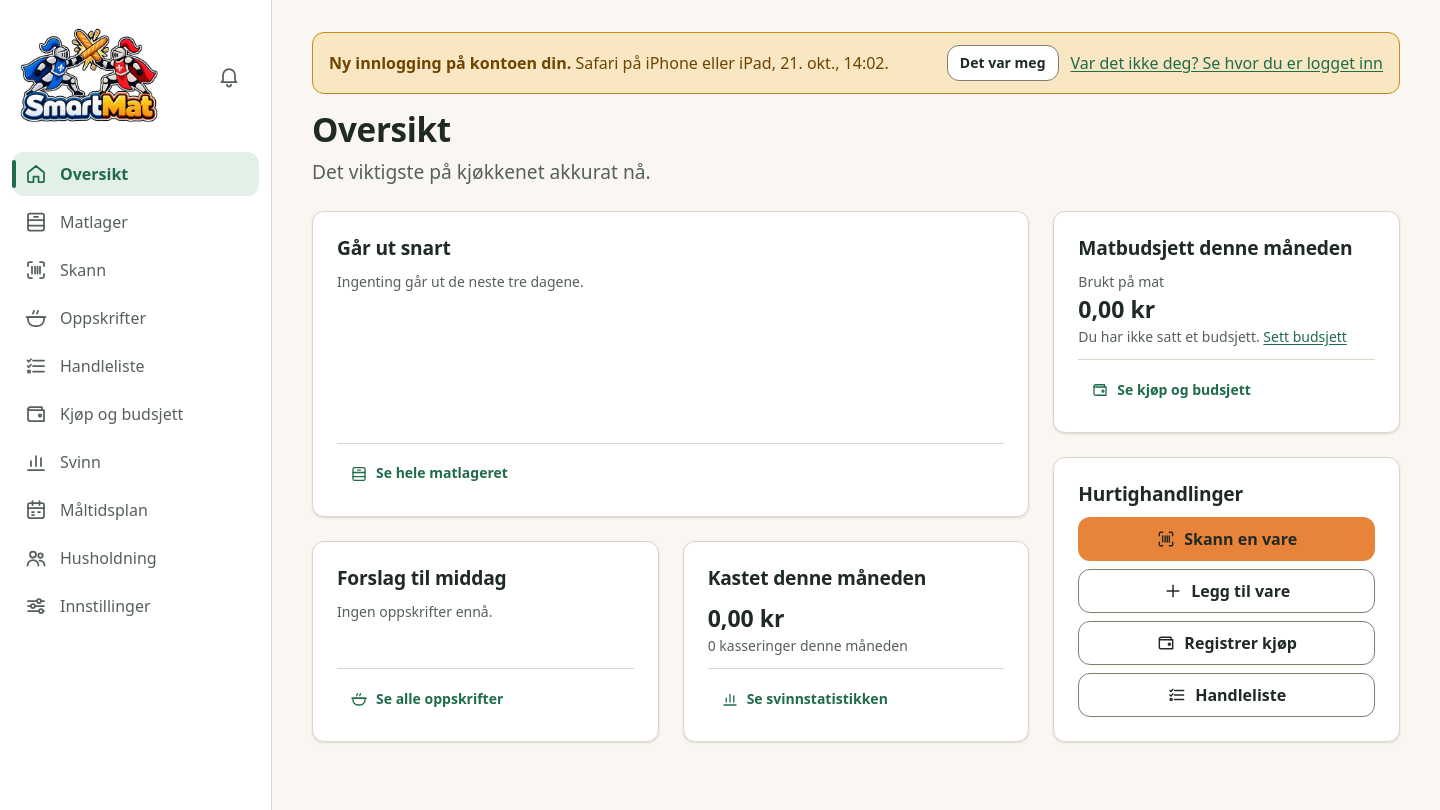
it: FR-AUTH-009 notice about a new login › "Det var meg" posts the dismissal for that session, and the notice goes away
Click the button "Det var meg": (1003, 63) [947, 45, 1058, 81]
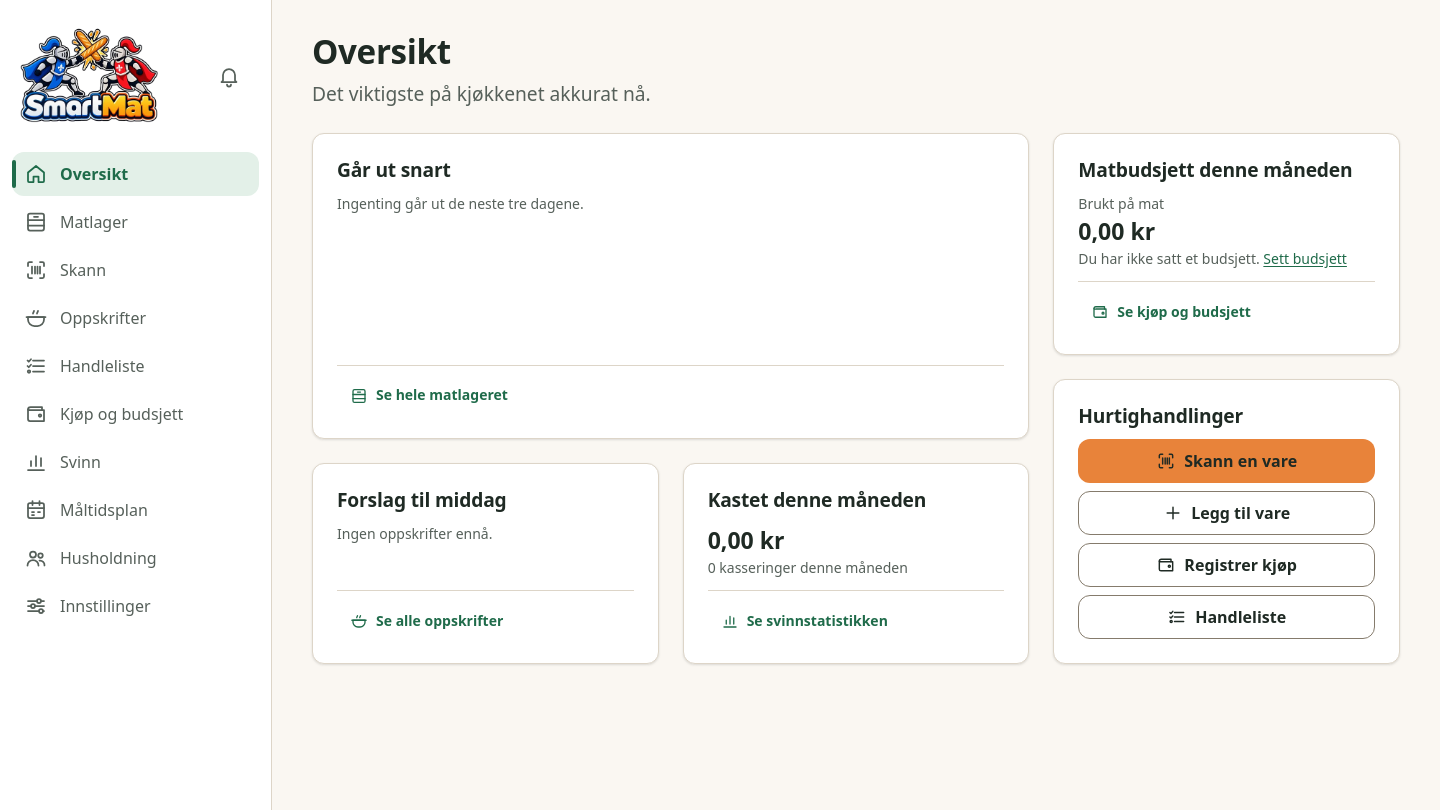
Expected: the text "Ny innlogging på kontoen din." is gone
